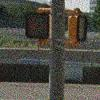traffic lights: (24, 10, 50, 41), (67, 10, 68, 12)
